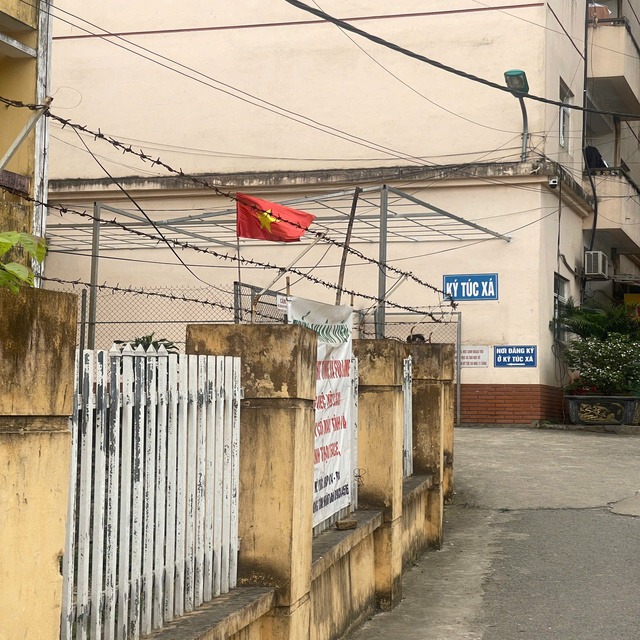laco: (229, 185, 320, 256)
